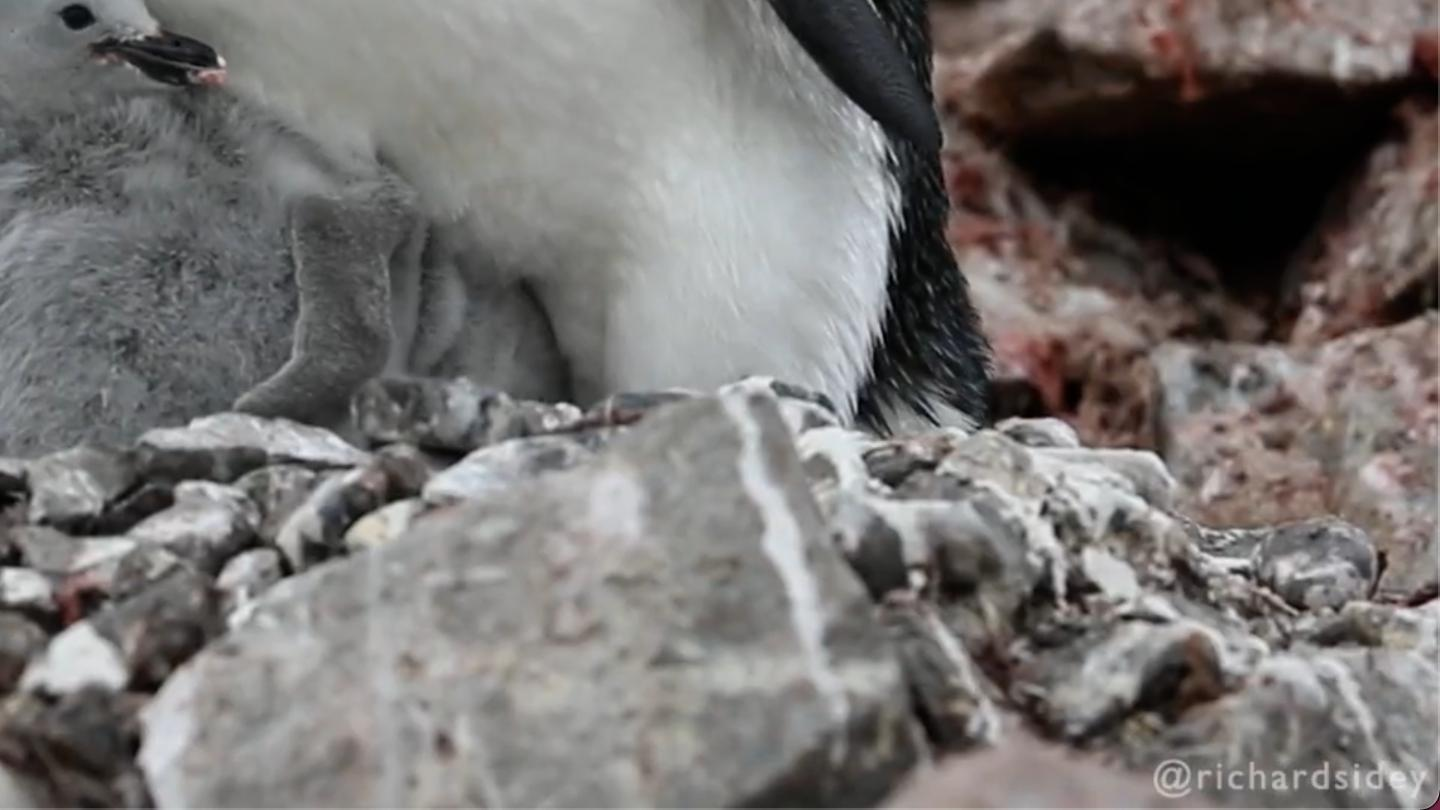Chinstrap Penguin: (0, 0, 510, 271)
